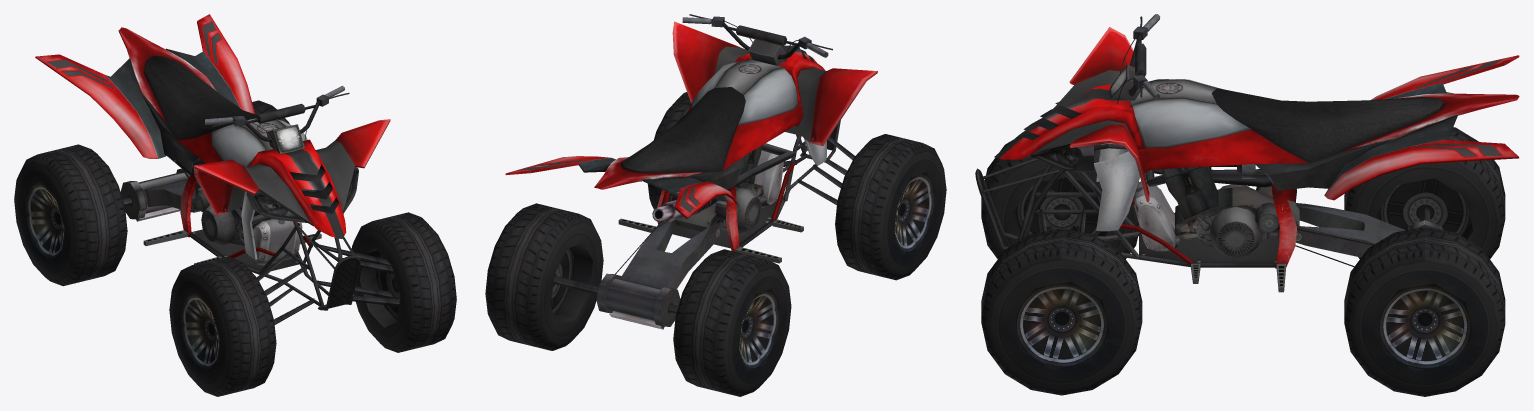
The model's file is bike_2.fbx.
3 renders of one model, left to right at view 1: azimuth 30°, elevation 25°; view 2: azimuth 150°, elevation 25°; view 3: azimuth 270°, elevation 25°, orthographic. The views are drawn at different scales.
Visible parts, largest first — view 1: polySurface62, Quard bike_2RBTyre, Quard bike_2RFTyre, Quard bike_2LFTyre; view 2: polySurface62, Quard bike_2RBTyre, Quard bike_2LBTyre, Quard bike_2RFTyre, Quard bike_2LFTyre; view 3: polySurface62, Quard bike_2LBTyre, Quard bike_2LFTyre, Quard bike_2RBTyre, Quard bike_2RFTyre.
Boxes of the visible parts, x1,y1,x2,y2 form: polySurface62: (35, 14, 399, 324); Quard bike_2RBTyre: (14, 144, 127, 286); Quard bike_2RFTyre: (169, 256, 276, 396); Quard bike_2LFTyre: (351, 212, 456, 352); polySurface62: (505, 14, 877, 329); Quard bike_2RBTyre: (673, 249, 791, 396); Quard bike_2LBTyre: (485, 203, 603, 350); Quard bike_2RFTyre: (835, 134, 946, 280); Quard bike_2LFTyre: (647, 92, 691, 209); polySurface62: (975, 14, 1519, 292); Quard bike_2LBTyre: (1344, 227, 1505, 396); Quard bike_2LFTyre: (981, 228, 1142, 395); Quard bike_2RBTyre: (1344, 126, 1505, 258); Quard bike_2RFTyre: (981, 139, 1139, 258).
Bounding box in the file's own units: 130 × 125 × 220.
